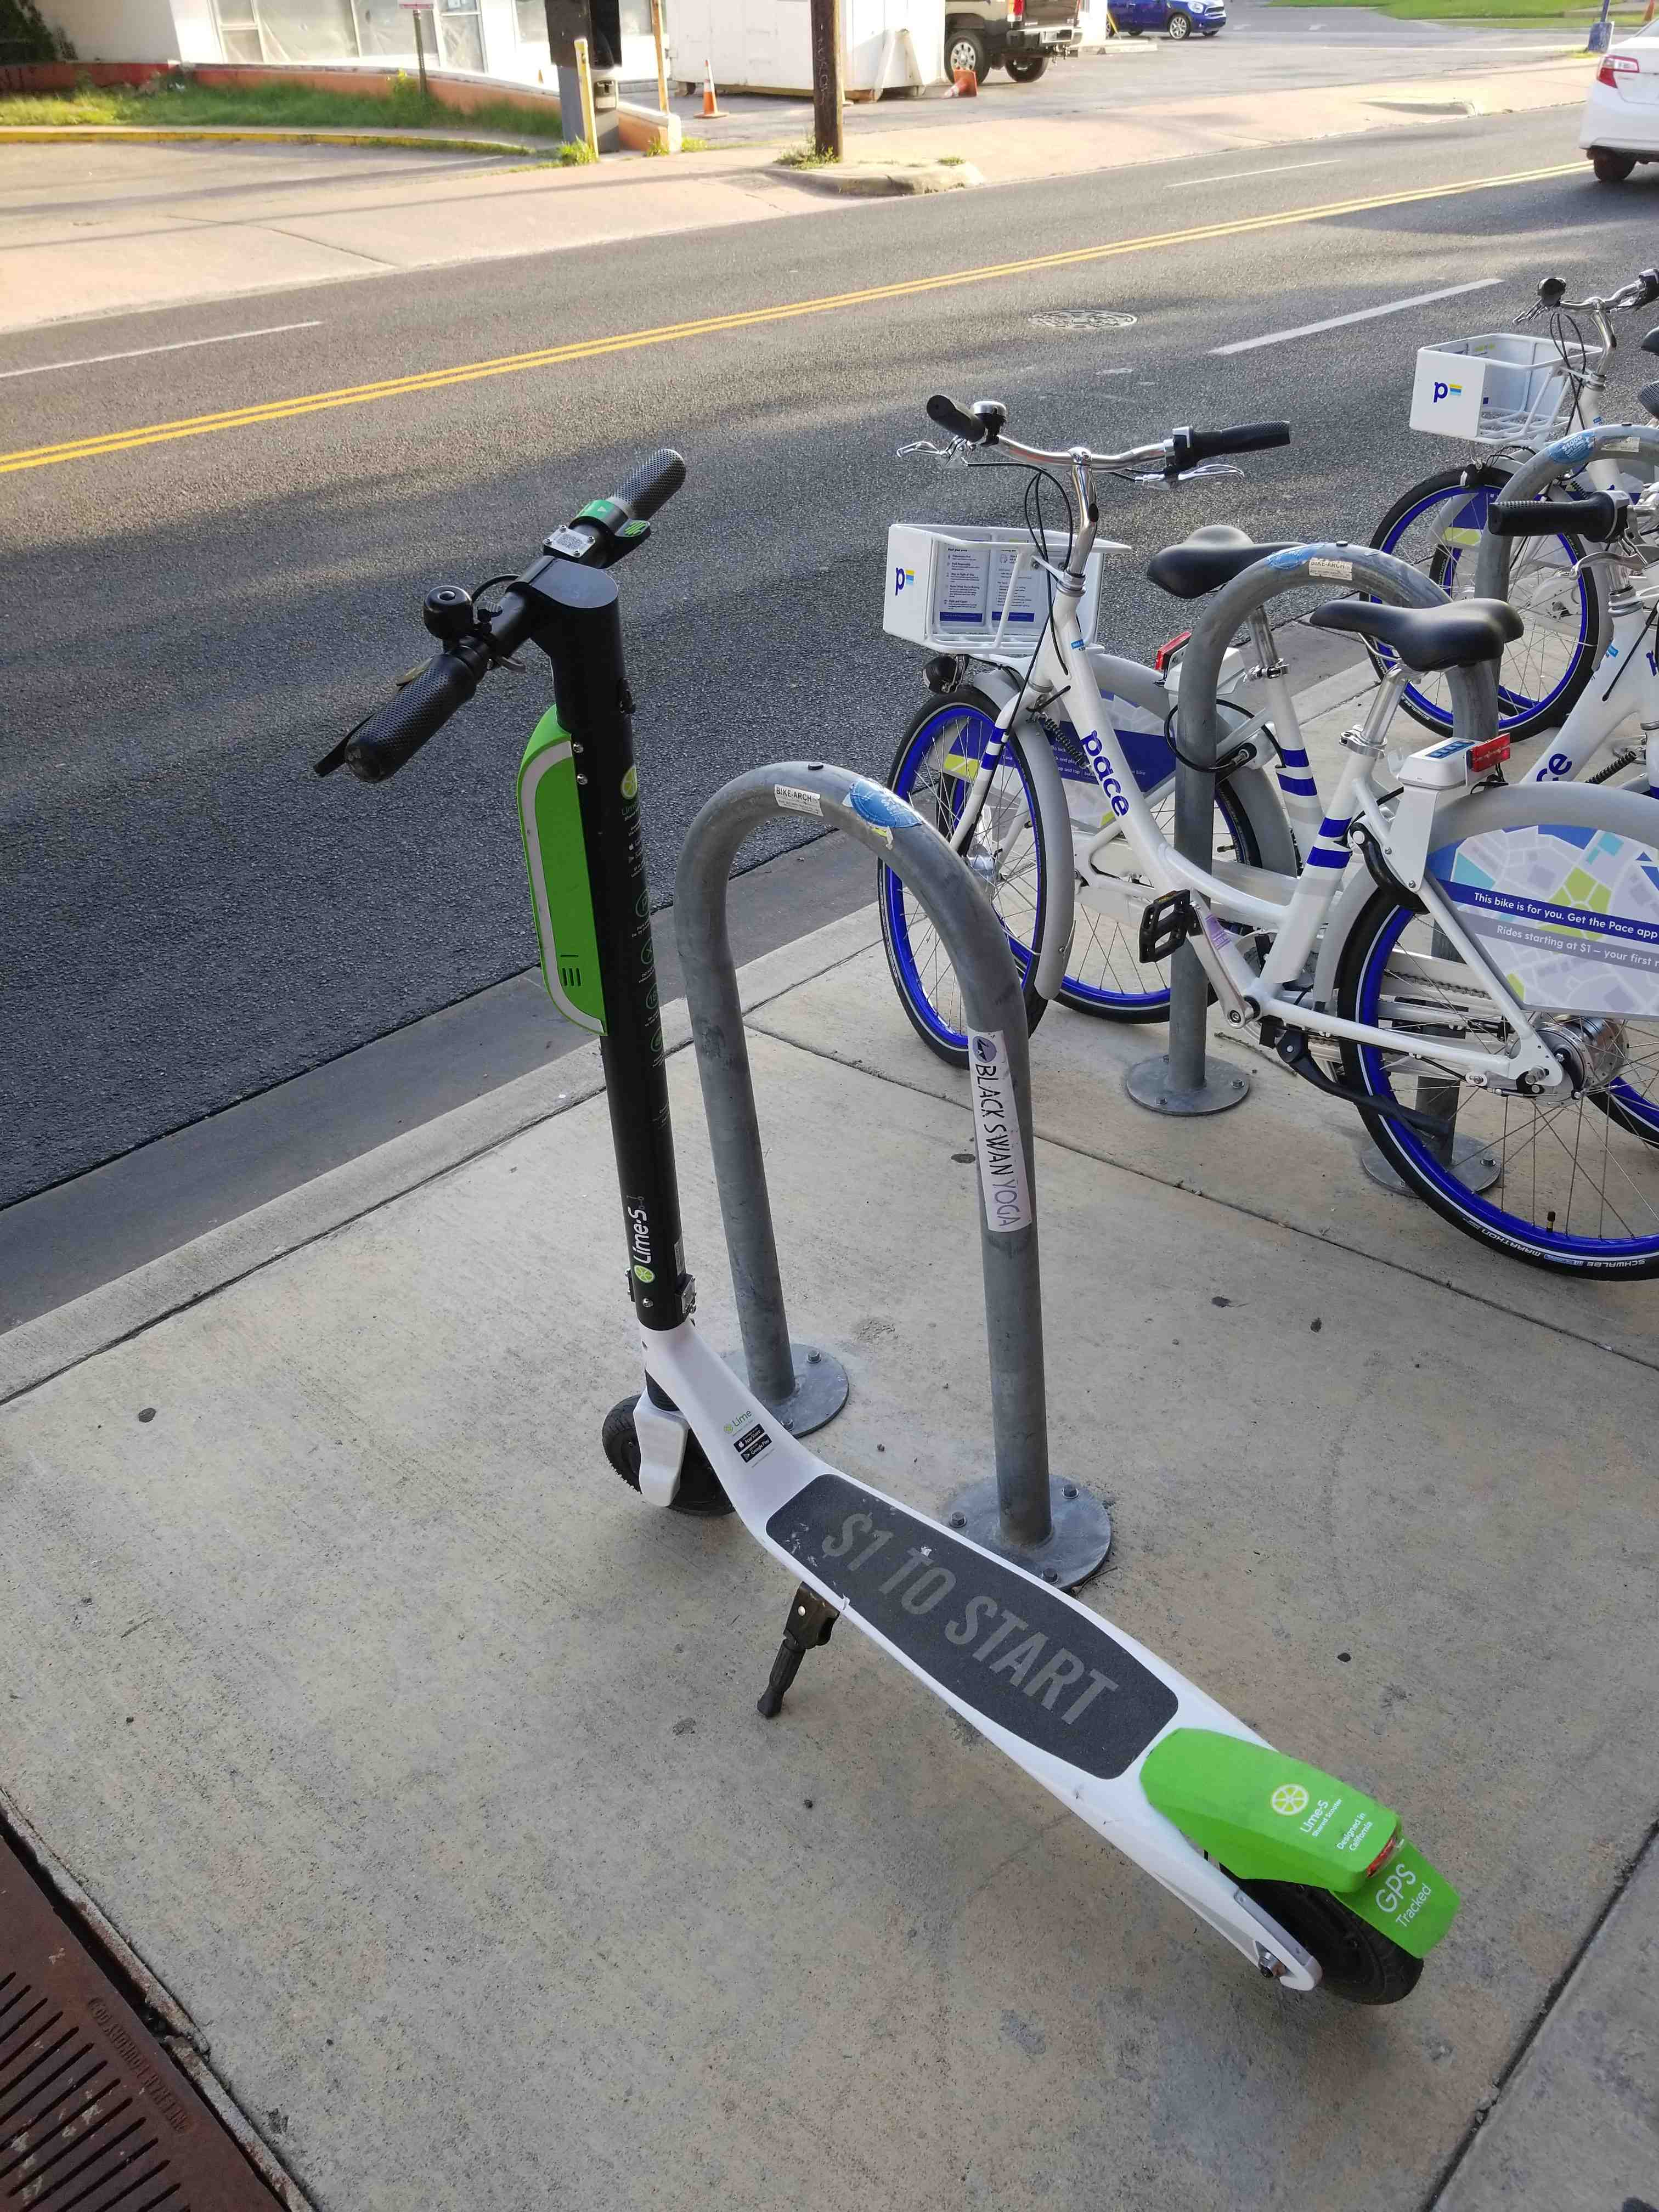scooter: (251, 421, 1483, 2020)
